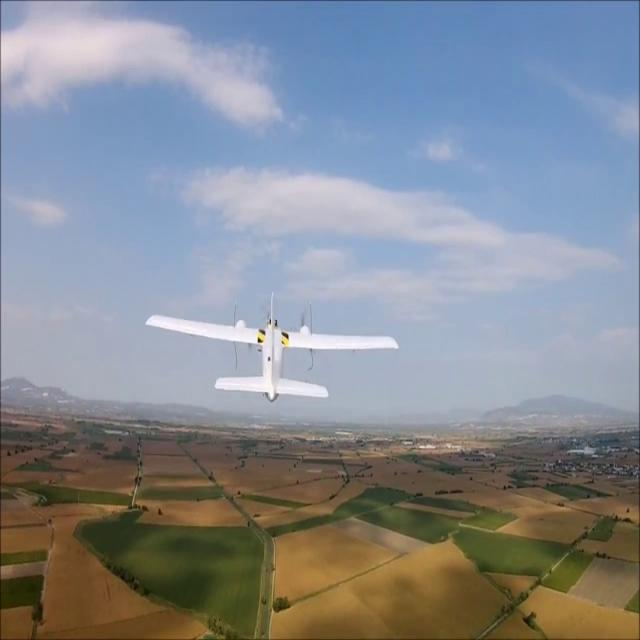iha: (132, 265, 390, 427)
